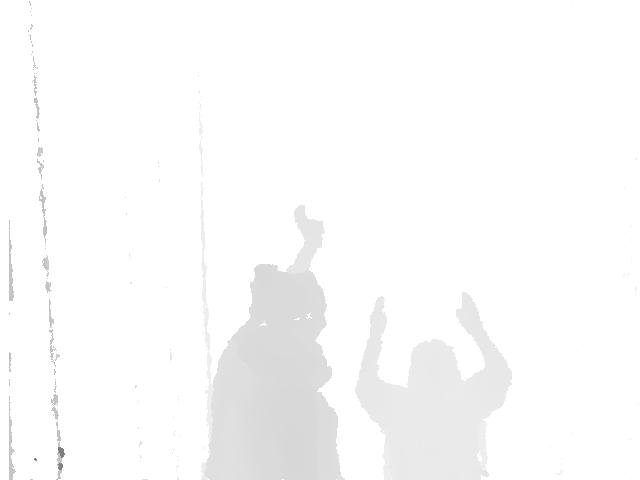hand: (295, 203, 327, 243), (454, 292, 482, 333), (366, 296, 390, 342)
head: (246, 261, 321, 342), (407, 338, 463, 398)
person: (206, 203, 343, 480), (354, 292, 514, 480)
